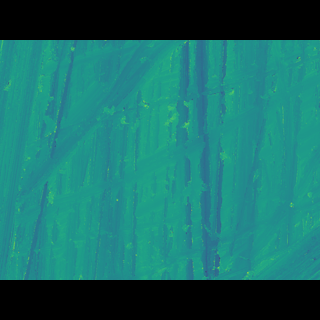Loch: (134, 125, 286, 246)
